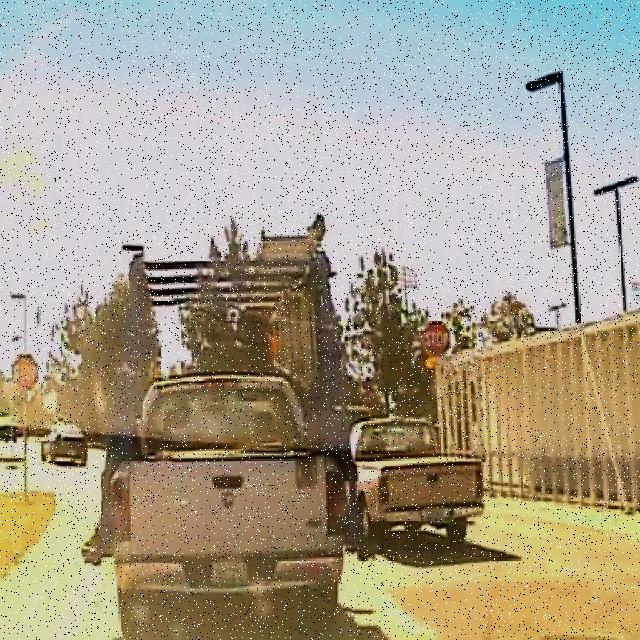Stop: (419, 318, 455, 360)
